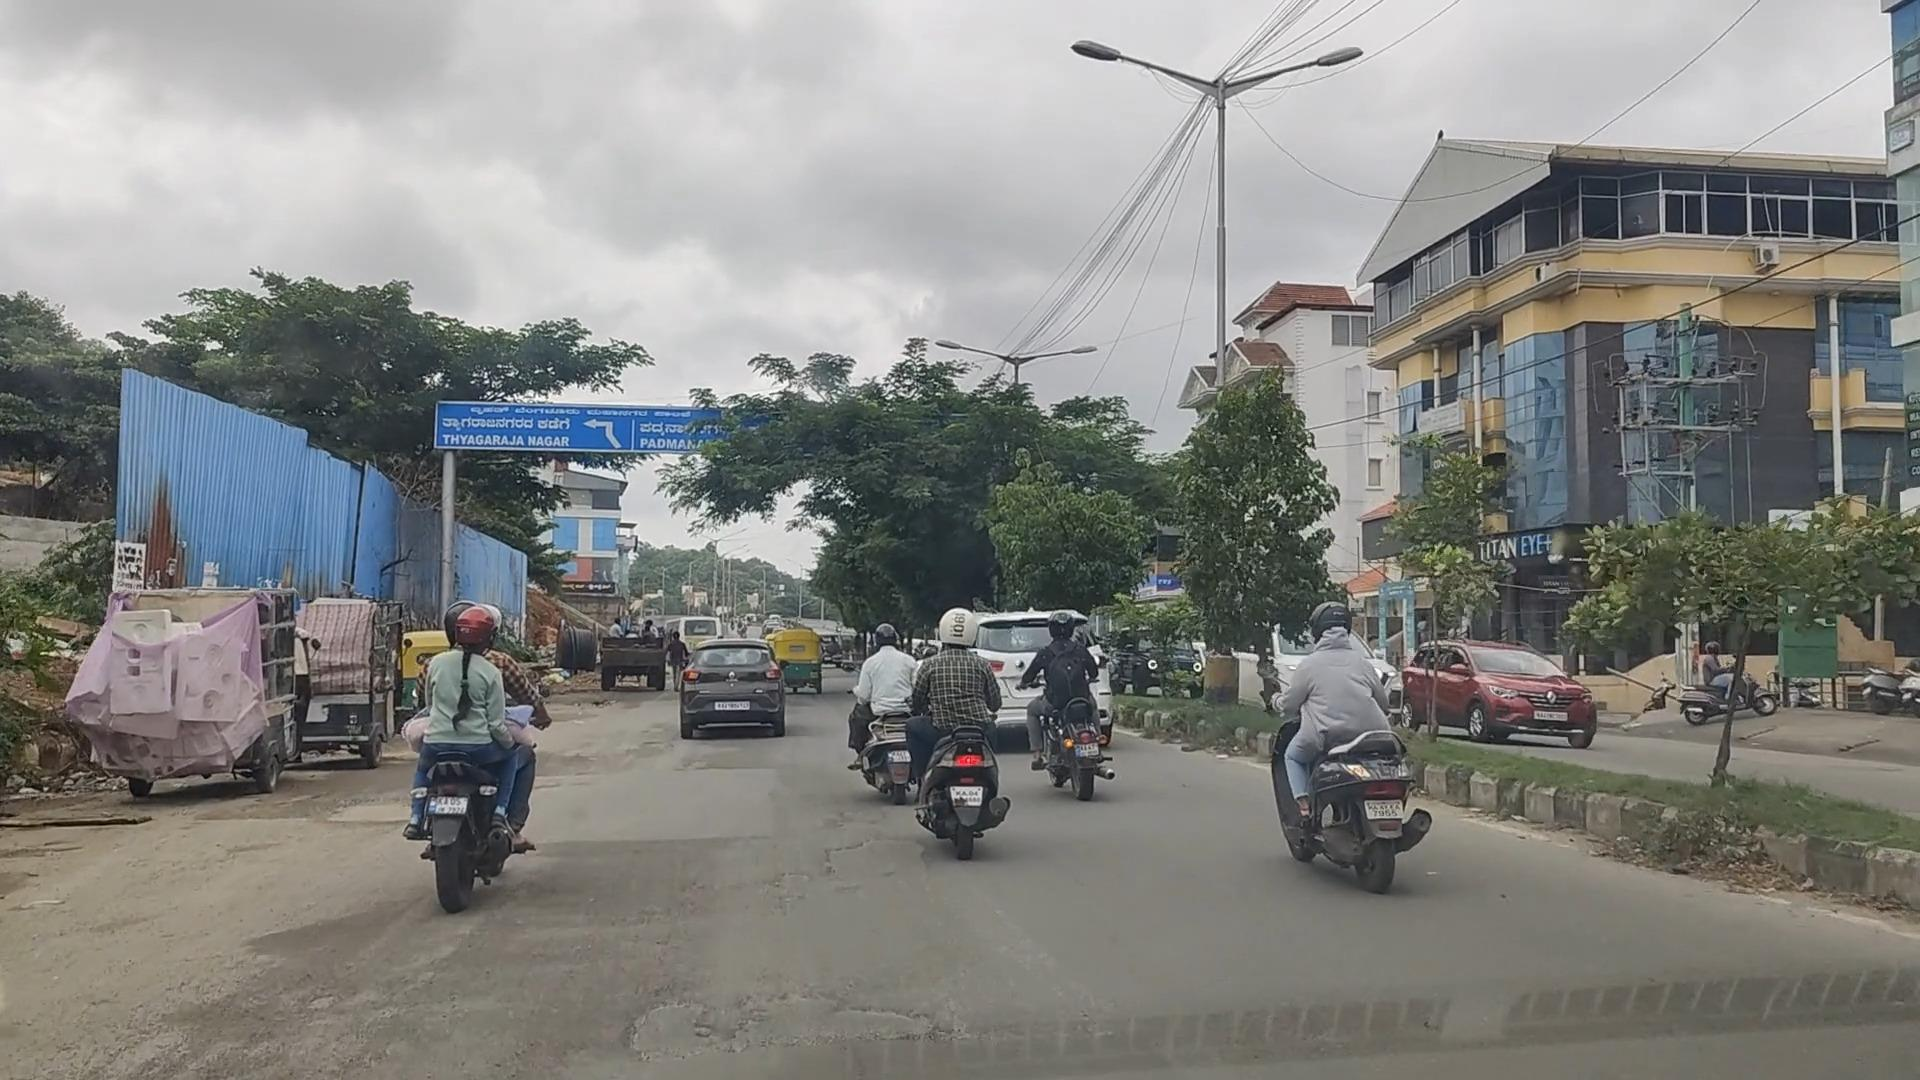LMV: (1267, 604, 1437, 897), (423, 607, 526, 893), (914, 611, 1005, 836), (1043, 617, 1112, 791), (676, 640, 781, 731), (851, 620, 905, 781)
RoadDamages: (137, 947, 472, 1080), (589, 977, 978, 1080), (713, 816, 862, 930)
